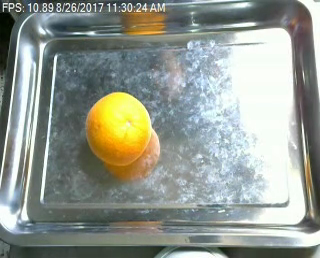Orange: (86, 91, 152, 166)
